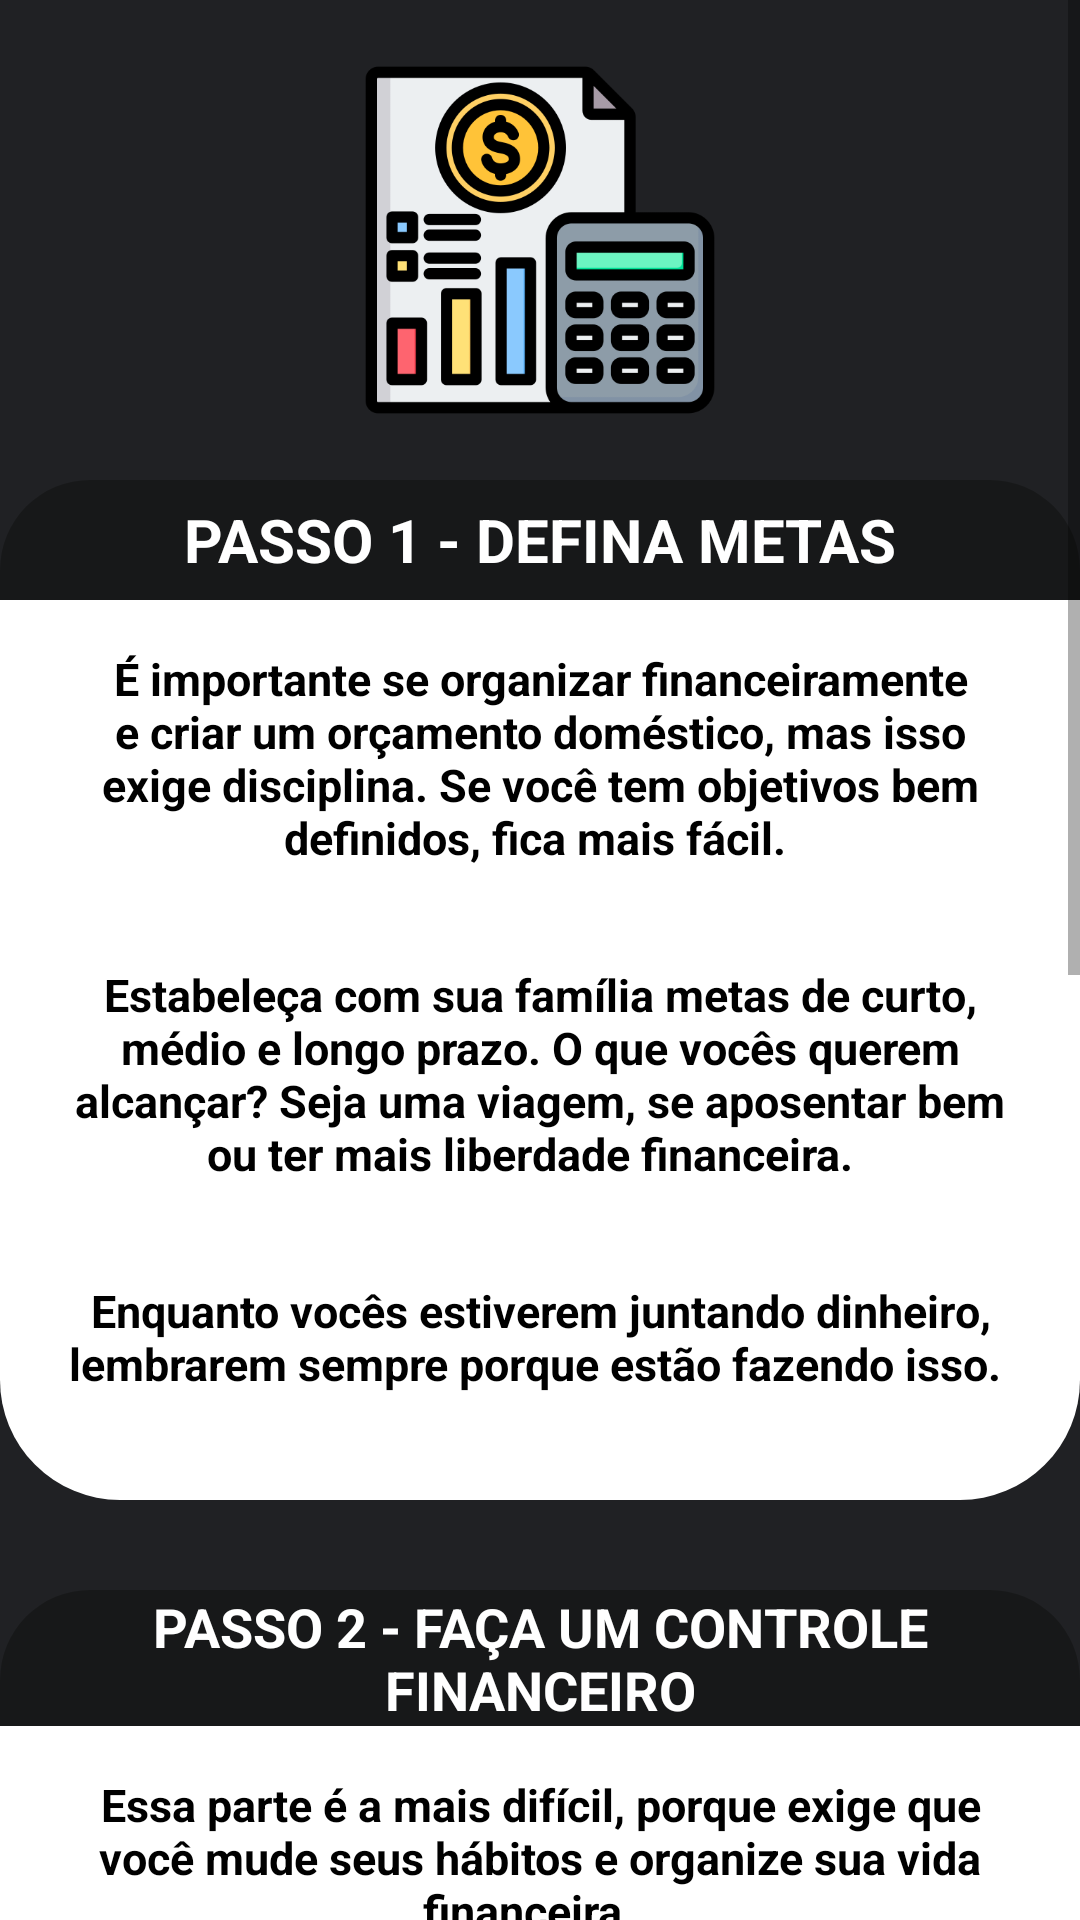

Screen size 1080*1920. Icon name, then its box in pixels as box(x1, y1, x2, y2):
orcamento: box(366, 67, 714, 413)
